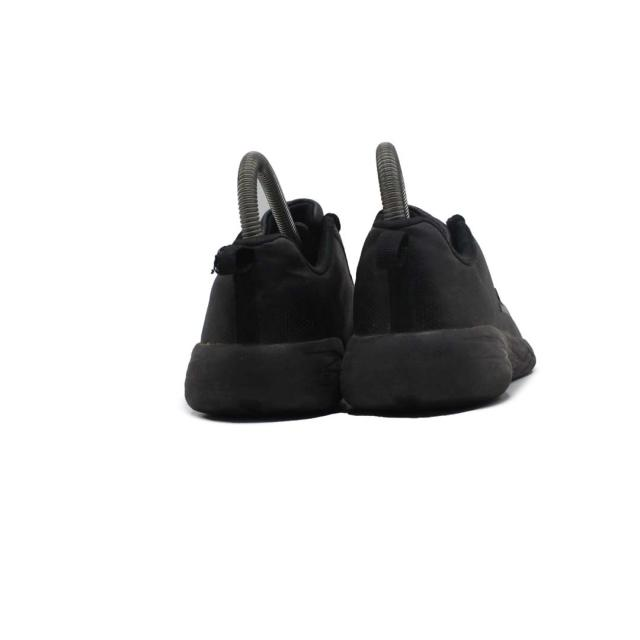heel: (198, 214, 346, 346), (353, 205, 499, 328)
midsole: (184, 336, 528, 421)
